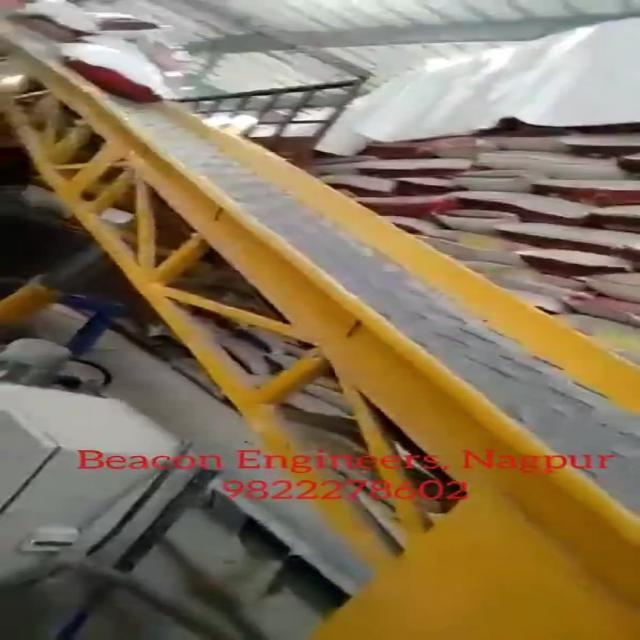Convoyeur: (10, 15, 640, 639)
